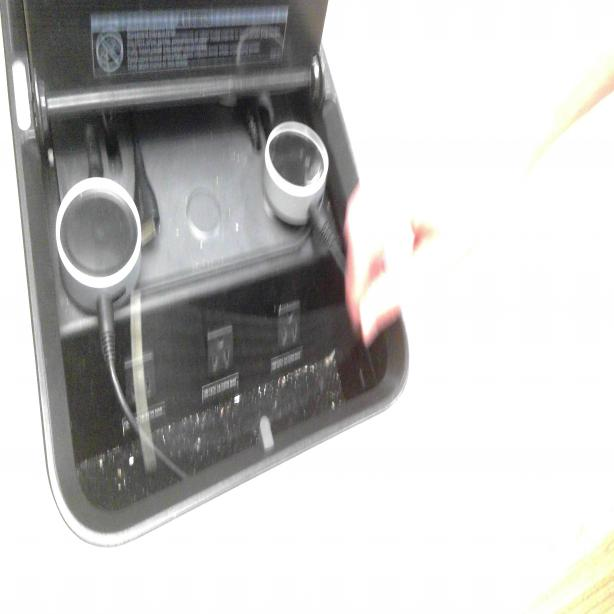typeb: (207, 328, 233, 370), (279, 310, 300, 344)
